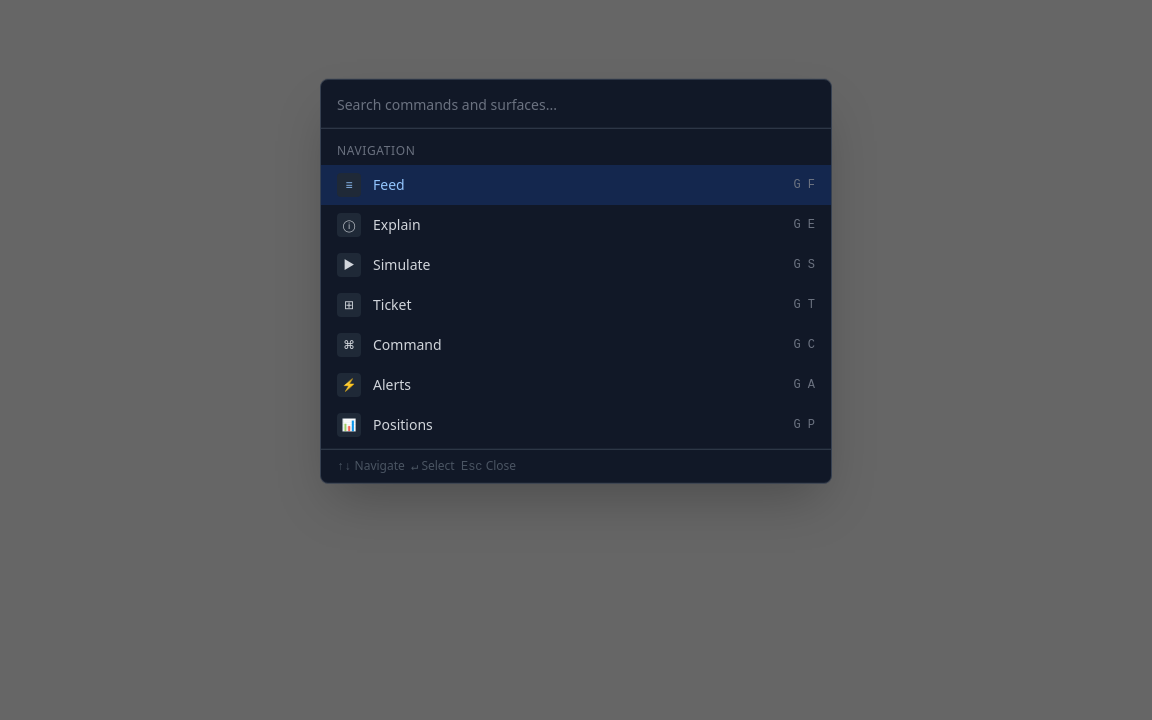
Scenario: CommandPalette › fuzzy filters results by search query
The image size is (1152, 720).
Type "ex" into the field labelled "Search commands" at (576,105), box top-left (337, 95), bottom-right (815, 115)
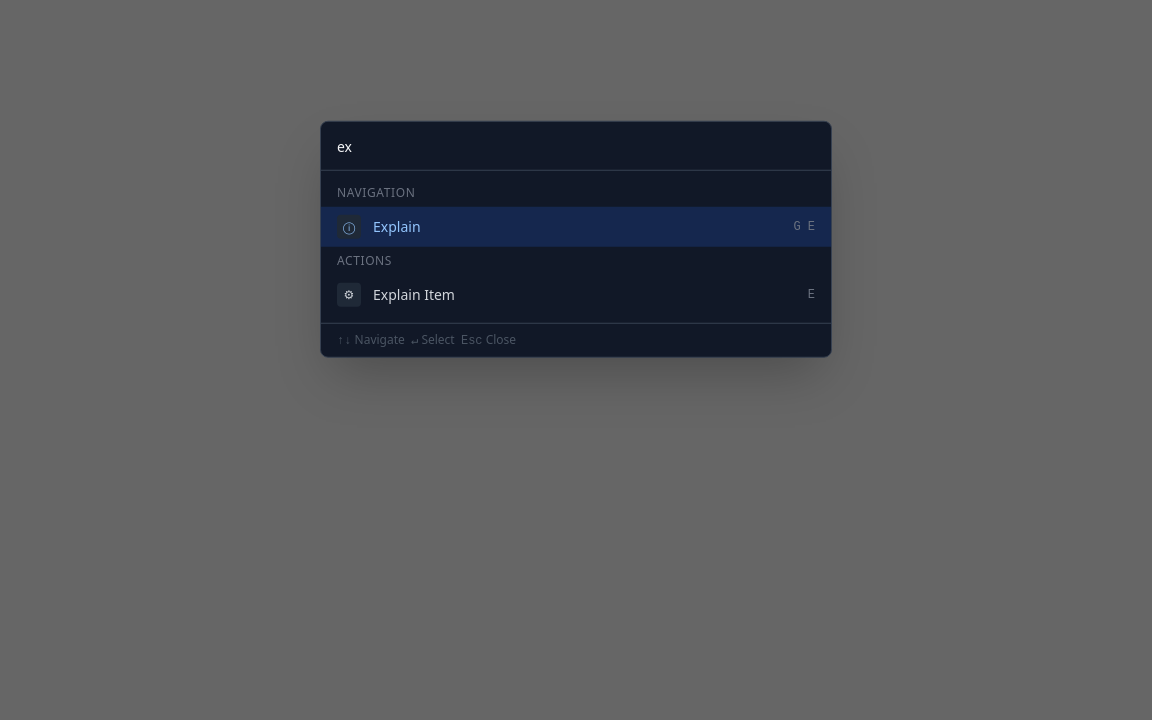
Expected: the text "Explain" is shown, top-left (373, 217), bottom-right (420, 236)
Expected: the text "Explain Item" is shown, top-left (373, 285), bottom-right (455, 304)
Expected: the option "Feed" is gone
